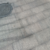zebra: (1, 4, 50, 34)
